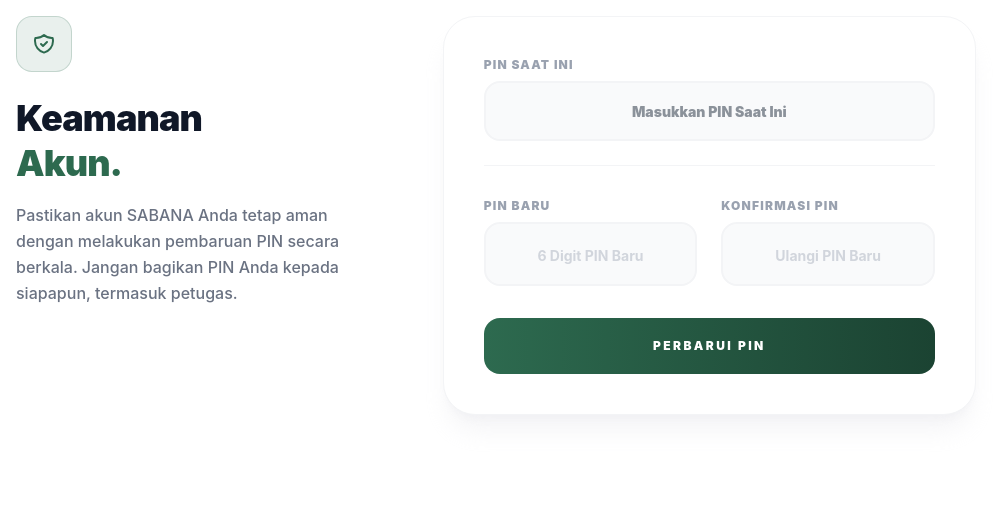
Test: Security.vue - Professional QA Test Suite › Error Handling › [ERR-02] Error 401: Unauthorized
This screenshot has width=993, height=524.
In the password field with id "input-current-pin": point(709, 111) [484,81,935,141], type "111111"
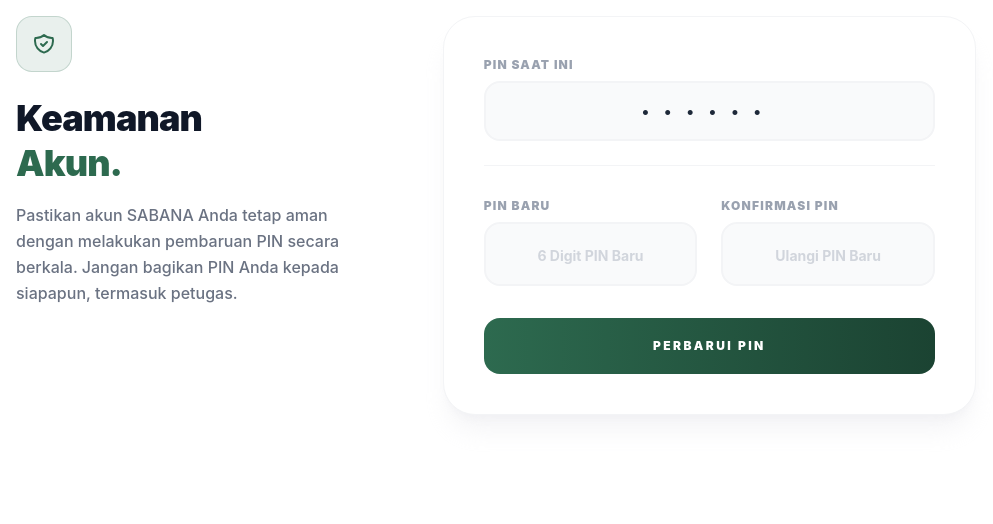
In the password field with id "input-new-pin": point(591, 254) [484,222,697,286], type "222222"
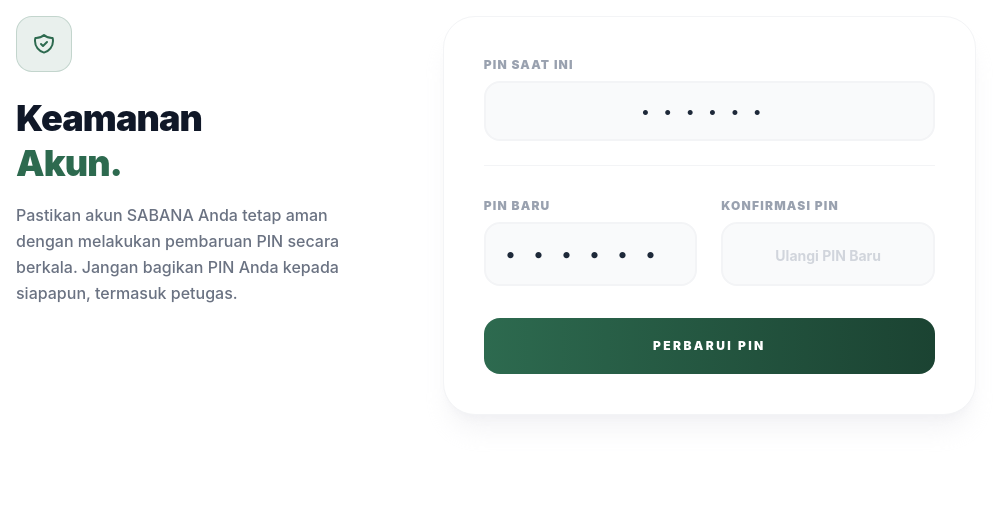
In the password field with id "input-confirm-pin": point(828, 254) [721,222,935,286], type "222222"
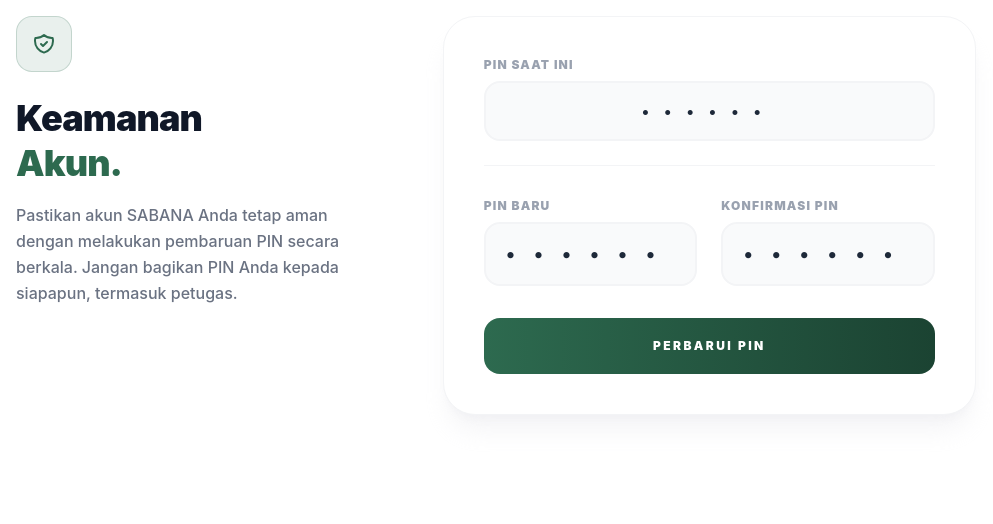
Submit the form, box [484,57,935,374]
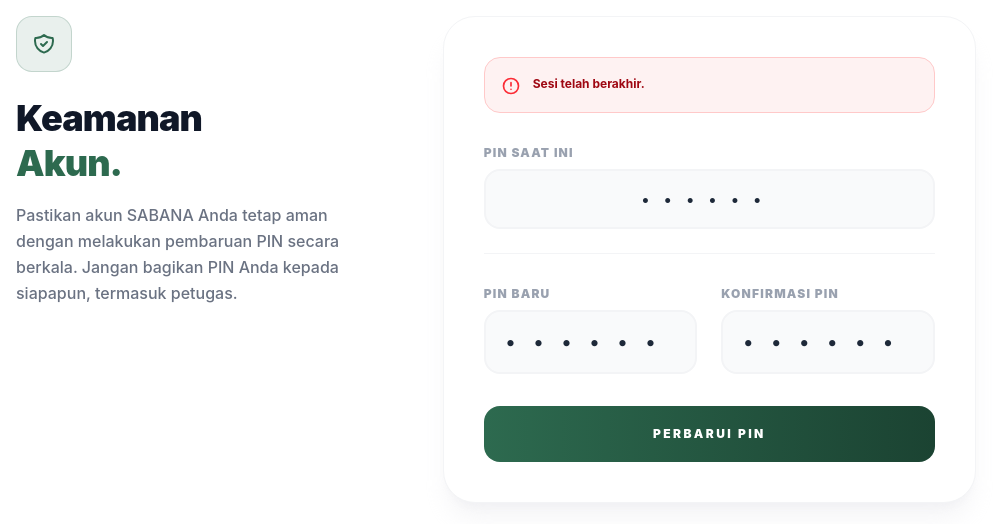
Expected: the text "Sesi telah berakhir" is shown, [533,76,645,91]
